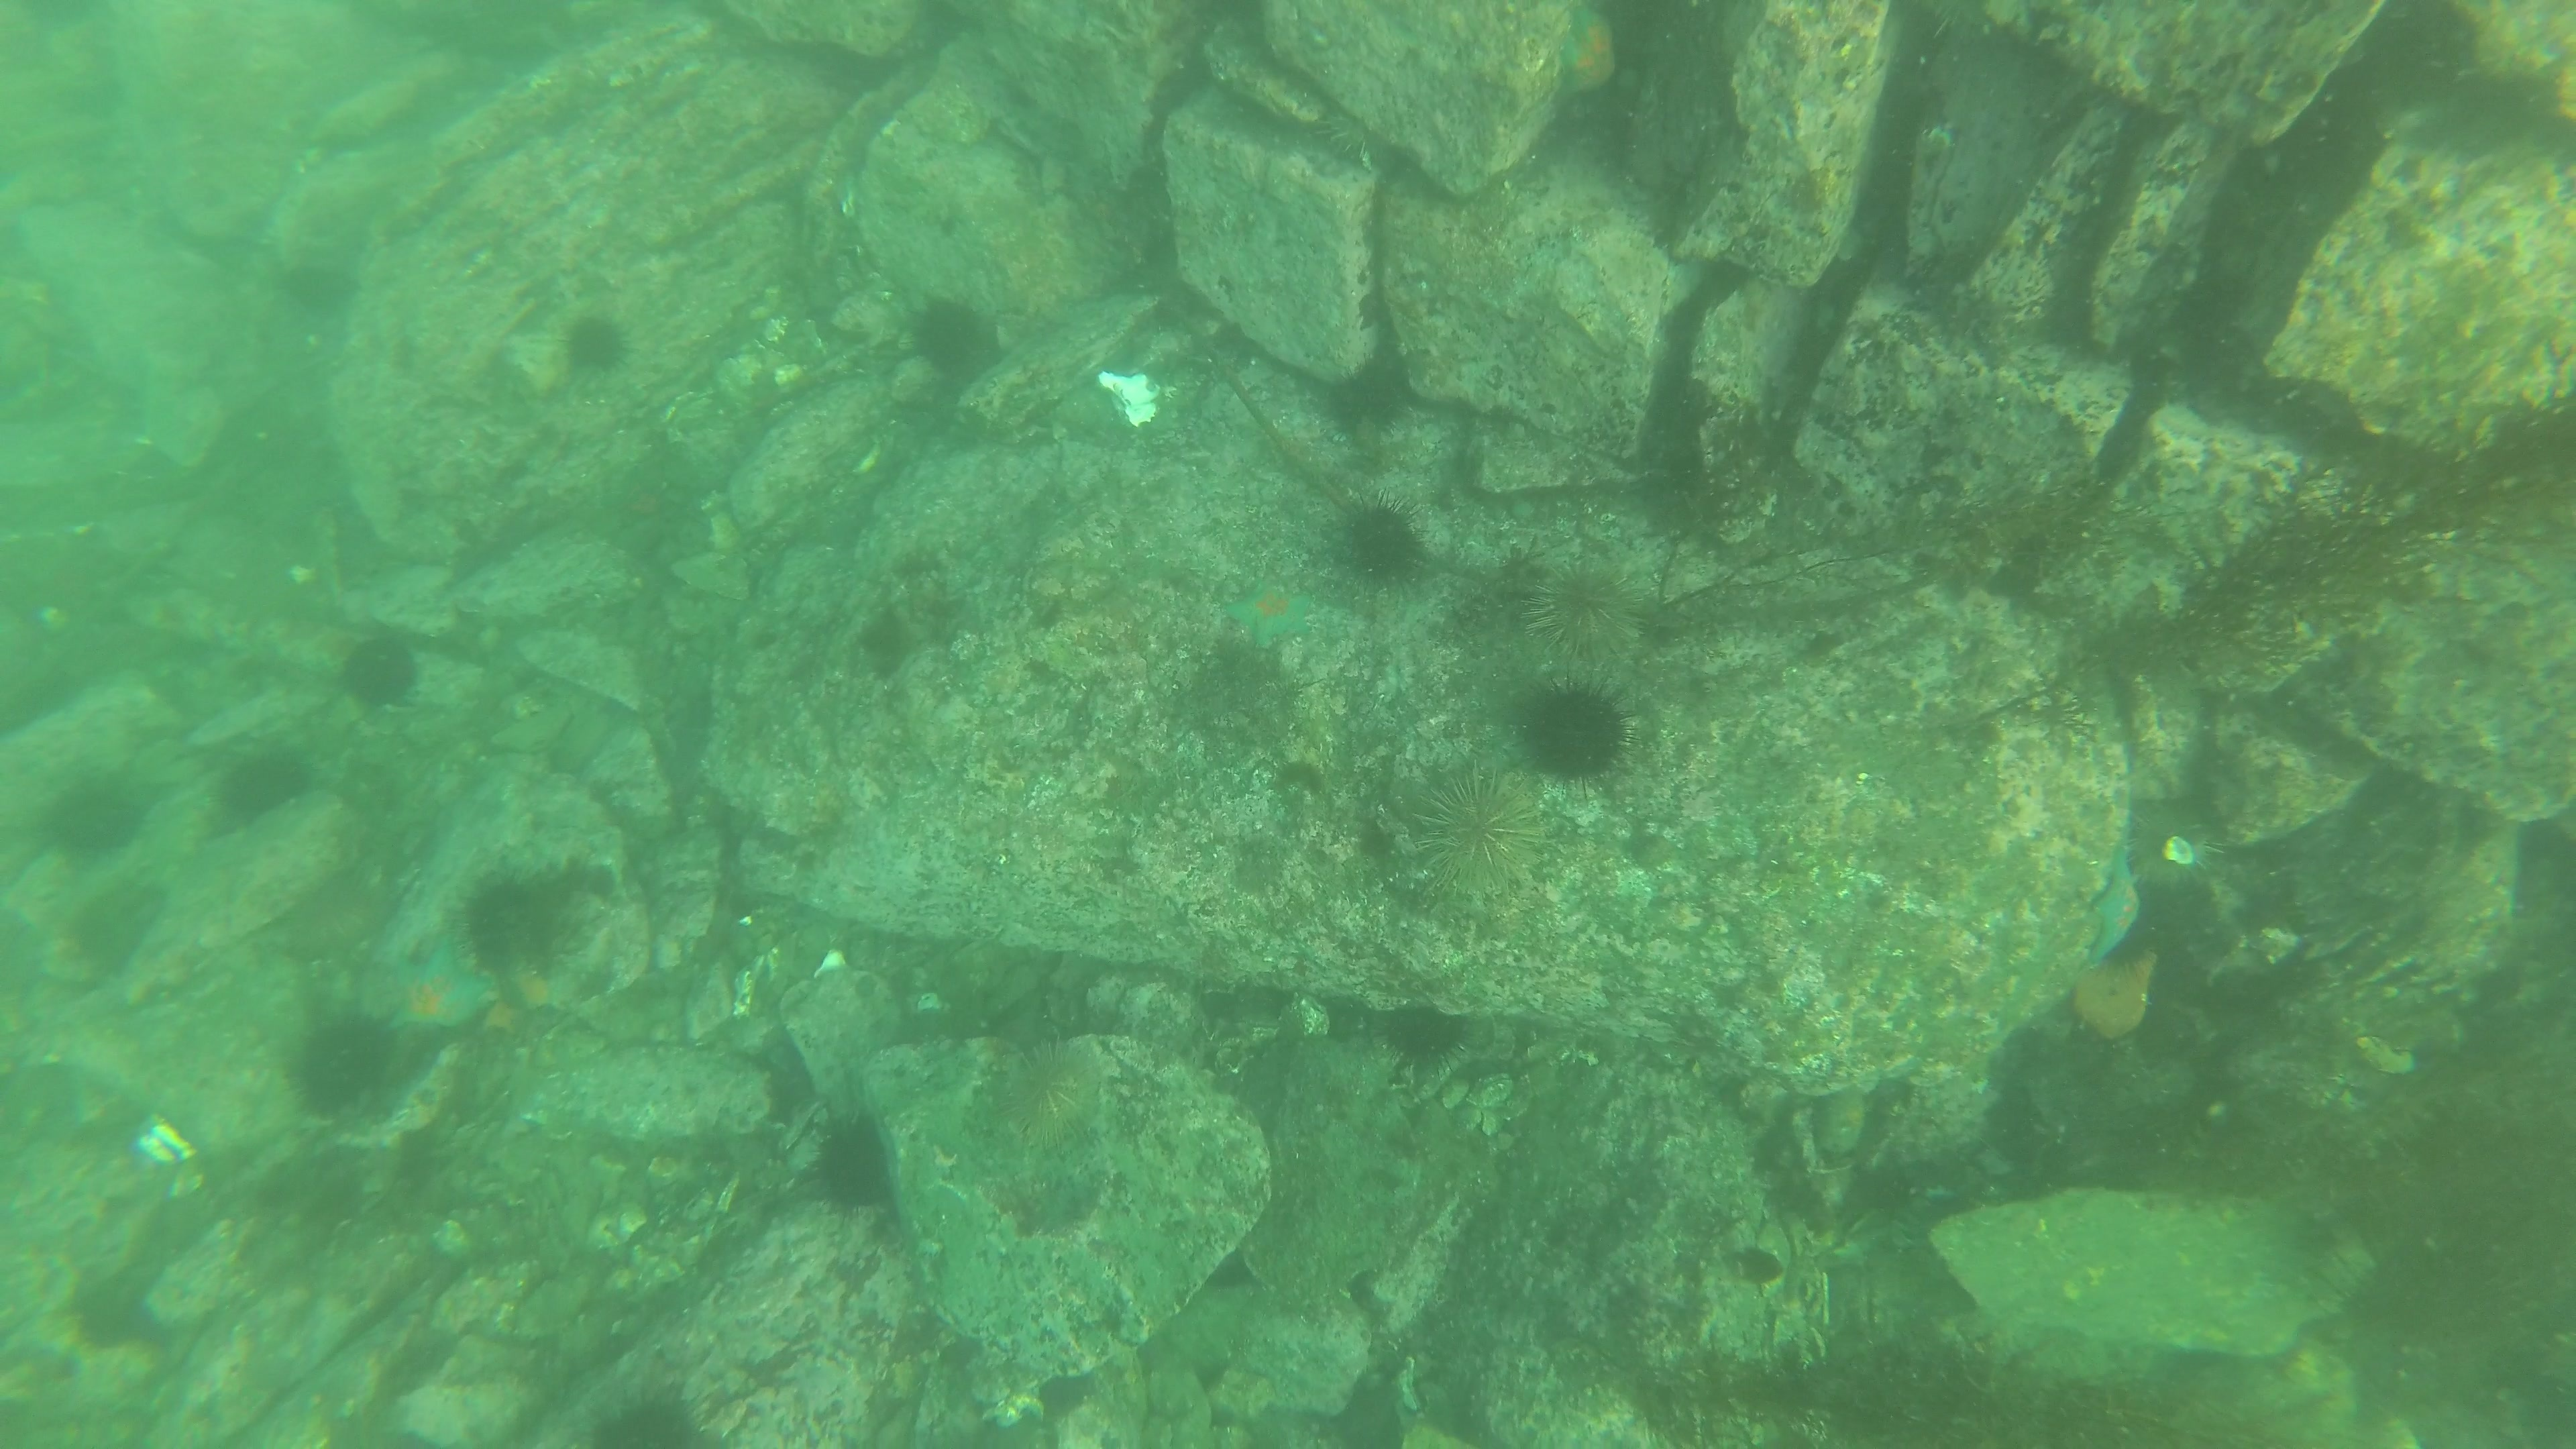echinus: (1419, 763, 1555, 893), (448, 863, 580, 984), (1513, 678, 1644, 787), (566, 1361, 717, 1449), (996, 1039, 1109, 1154), (1332, 487, 1440, 593), (1525, 561, 1637, 663), (809, 1113, 902, 1210), (294, 1026, 384, 1118), (41, 780, 140, 856), (1382, 1001, 1476, 1077), (212, 754, 306, 826), (909, 295, 985, 379), (1341, 354, 1419, 433), (340, 633, 418, 711), (561, 311, 637, 373), (290, 258, 366, 318)
starfish: (384, 948, 504, 1040), (1230, 575, 1320, 653), (1557, 5, 1624, 101), (2097, 847, 2151, 964)
